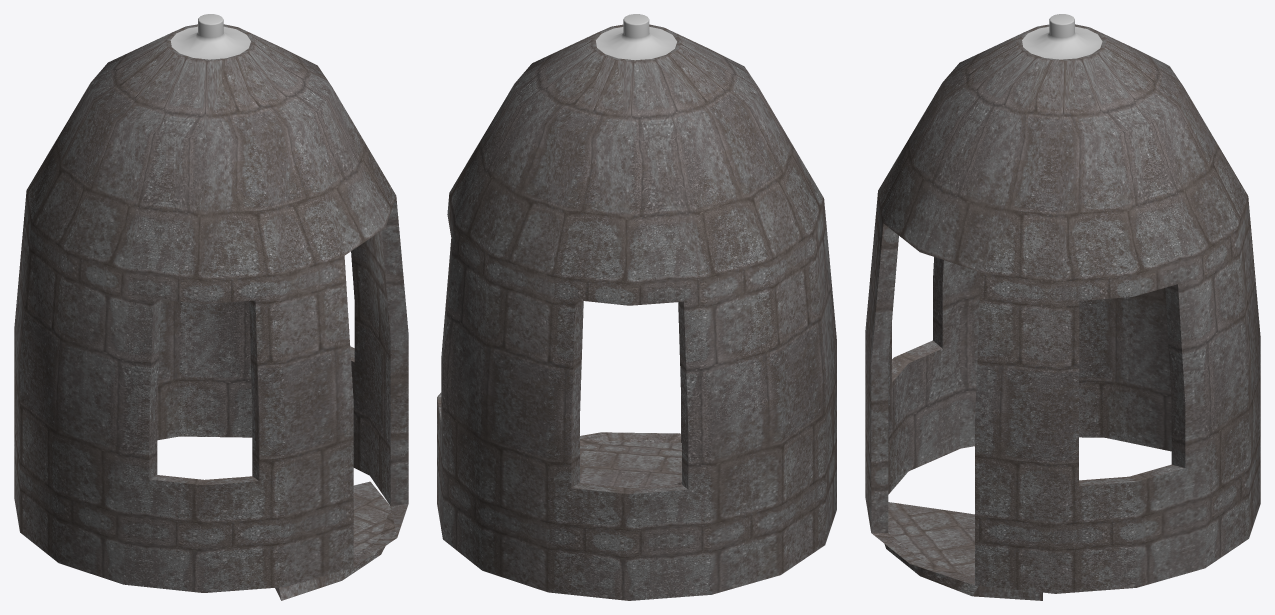
File: Spiral Staircase Cap Exit.fbx
3 renders of one model, left to right at view 1: azimuth 30°, elevation 25°; view 2: azimuth 150°, elevation 25°; view 3: azimuth 270°, elevation 25°, orthographic.
Visible parts, largest first — view 1: Cylinder_001; view 2: Cylinder_001; view 3: Cylinder_001.
Part boxes in pixels (left/top/right/bottom): Cylinder_001: left=14, top=14, right=408, bottom=600; Cylinder_001: left=437, top=14, right=836, bottom=600; Cylinder_001: left=865, top=14, right=1260, bottom=600.
Bounding box in the file's own units: 507 × 721 × 507.
